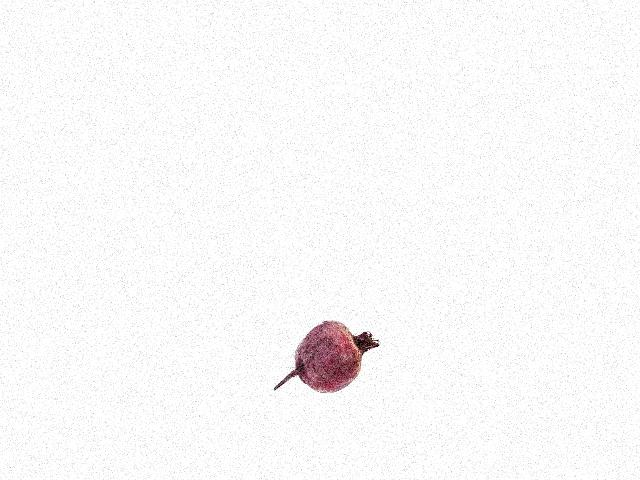beet: (274, 321, 380, 393)
